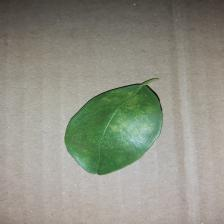greening: (53, 75, 174, 176)
